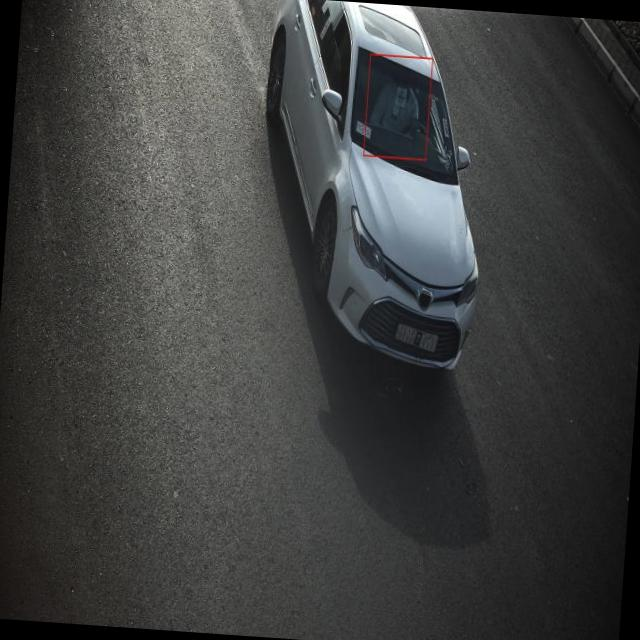person_without_seatbelt: (367, 59, 428, 150)
